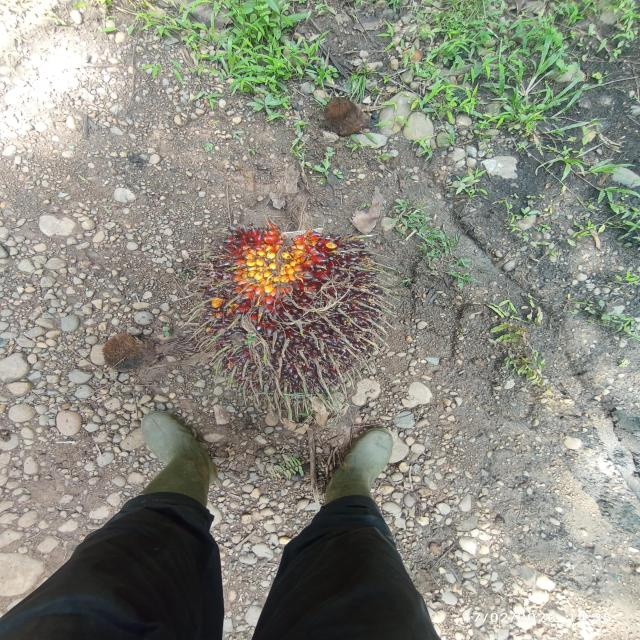fraksi 1: (170, 212, 427, 422)
